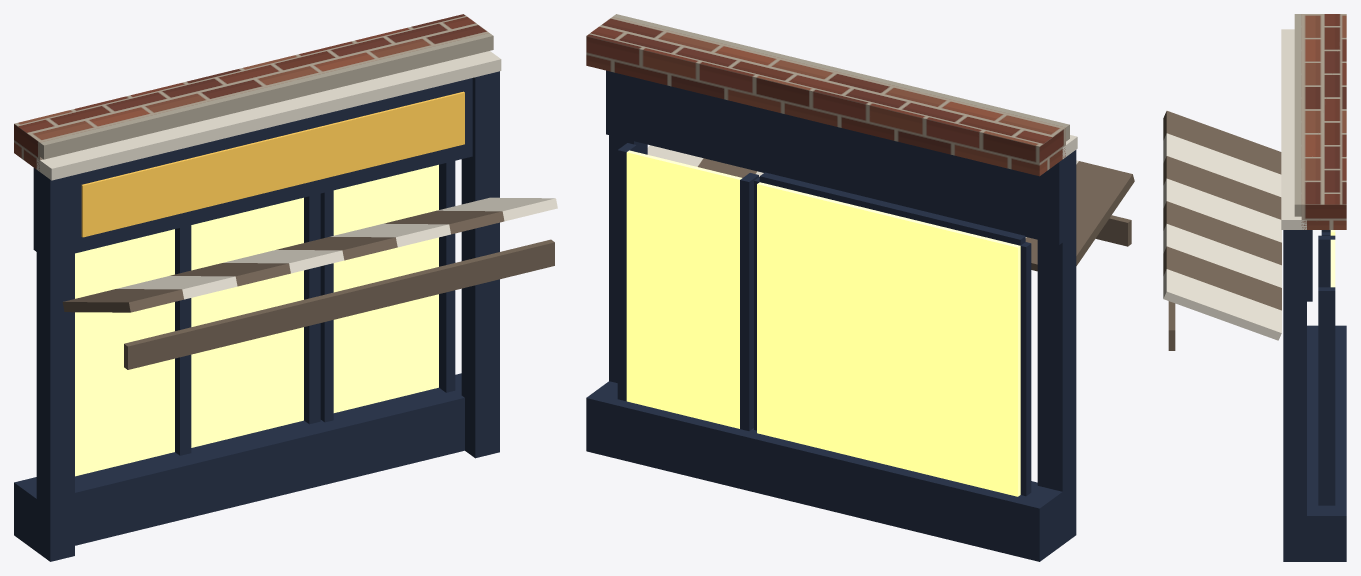
File: ct_shop_b.glb
3 views of the same model, side by side, from view 1: azimuth 30°, elevation 25°; view 2: azimuth 150°, elevation 25°; view 3: azimuth 270°, elevation 25° (orthographic). The views are drawn at different scales.
Visible parts, largest first — view 1: city_ct_shop_b; view 2: city_ct_shop_b; view 3: city_ct_shop_b.
Part boxes in pixels (x1,y1,x2,y2): city_ct_shop_b: (14, 14, 557, 561); city_ct_shop_b: (586, 14, 1134, 561); city_ct_shop_b: (1163, 14, 1346, 561).
Bounding box in the file's own units: 4 × 3.5 × 1.63.
Materials: 2 (2 with a texture image).
